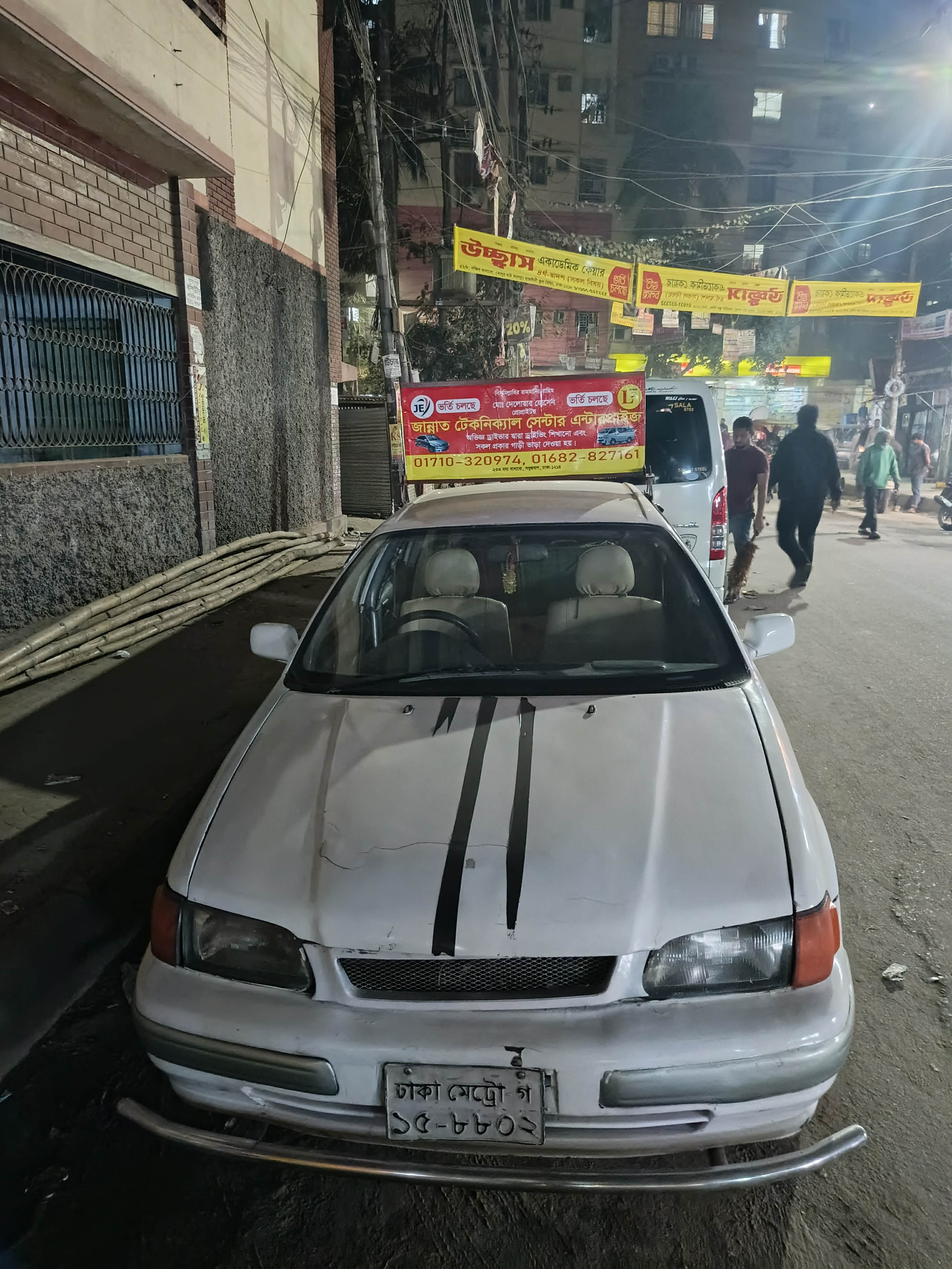private car: (112, 454, 875, 1201)
